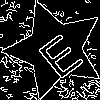E: (29, 24, 86, 81)
